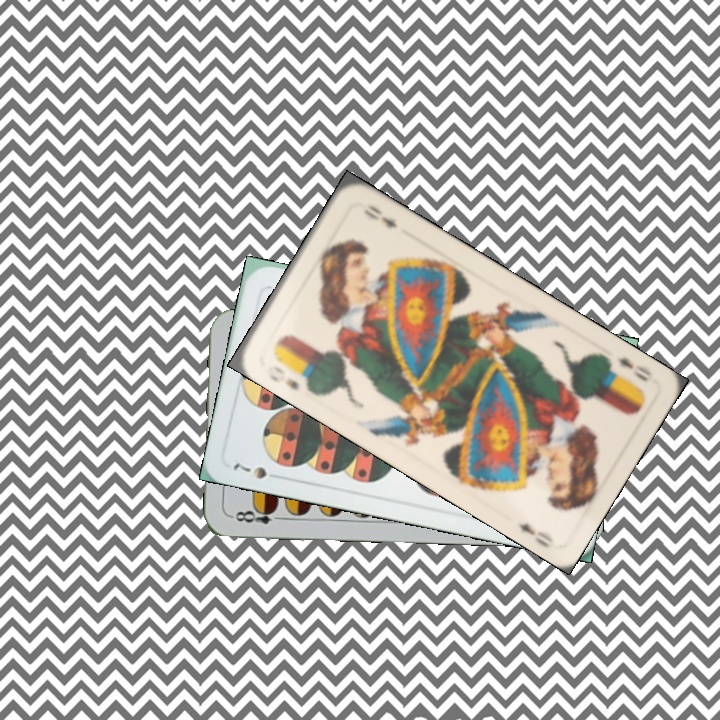E8: (228, 503, 287, 526)
EO: (613, 353, 655, 385), (263, 361, 302, 393)
S7: (228, 459, 270, 482)
